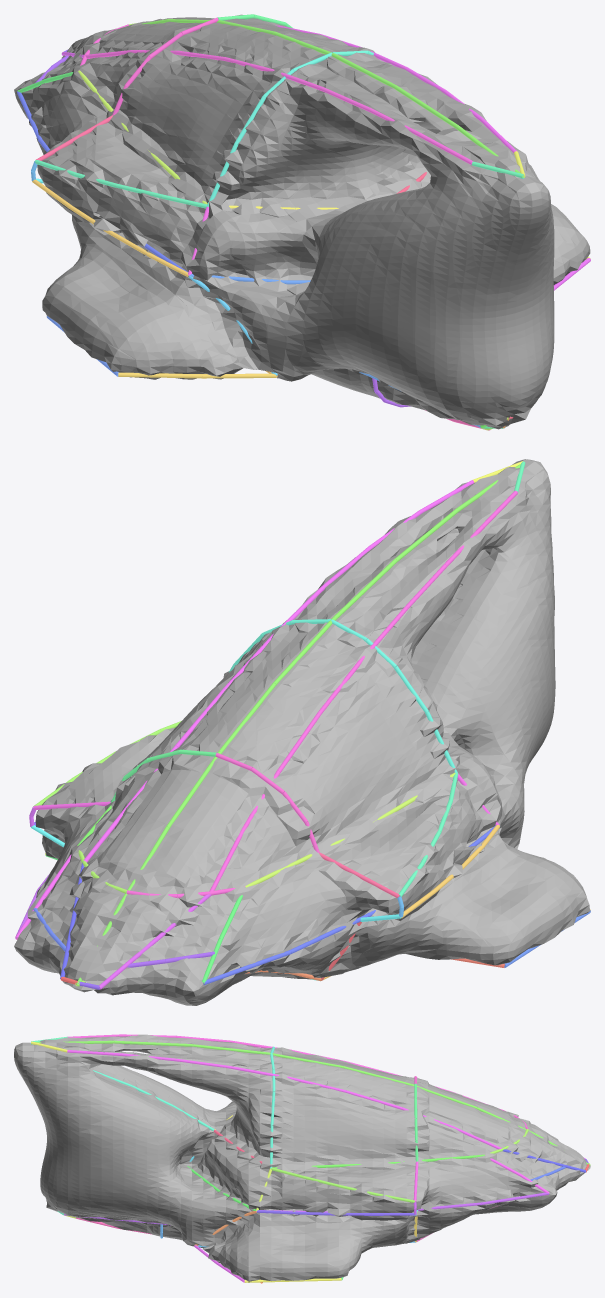
Rendered from ils_spacecraft_78.gltf.
The picture shows the model from 3 angles, top to bottom: view 1: azimuth 30°, elevation 25°; view 2: azimuth 150°, elevation 25°; view 3: azimuth 270°, elevation 25°; orthographic projection. The views are drawn at different scales.
Bounding box in the file's own units: 0.507 × 0.3206 × 0.8355.
